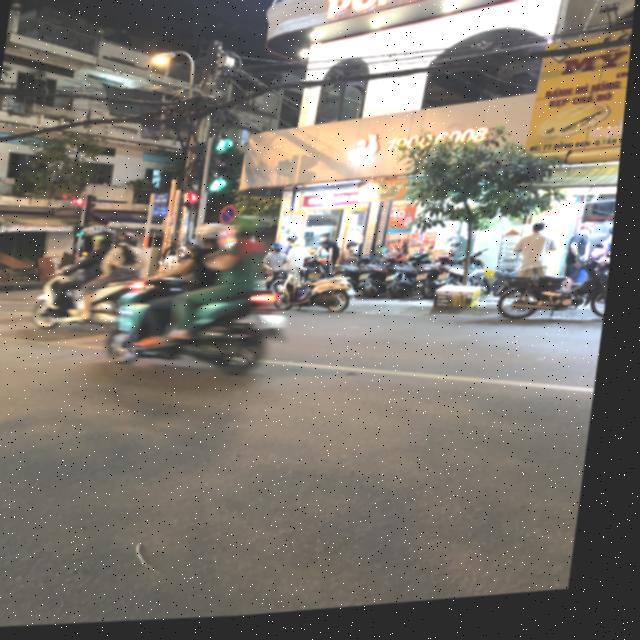Green: (204, 153, 241, 202)
